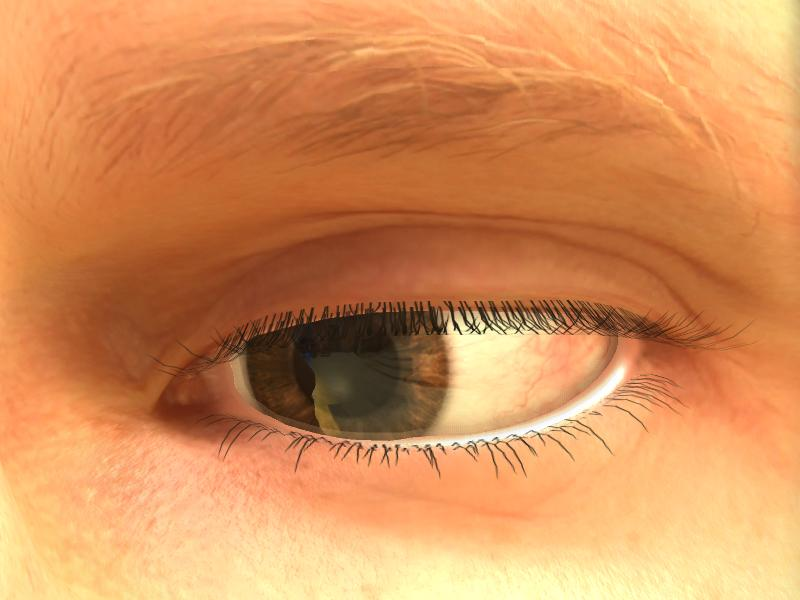eye: (245, 309, 454, 440)
